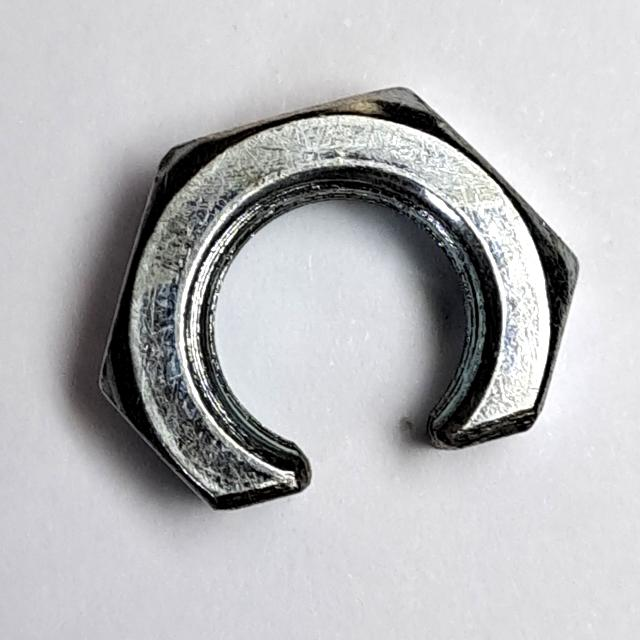Fracture: (83, 76, 589, 528)
